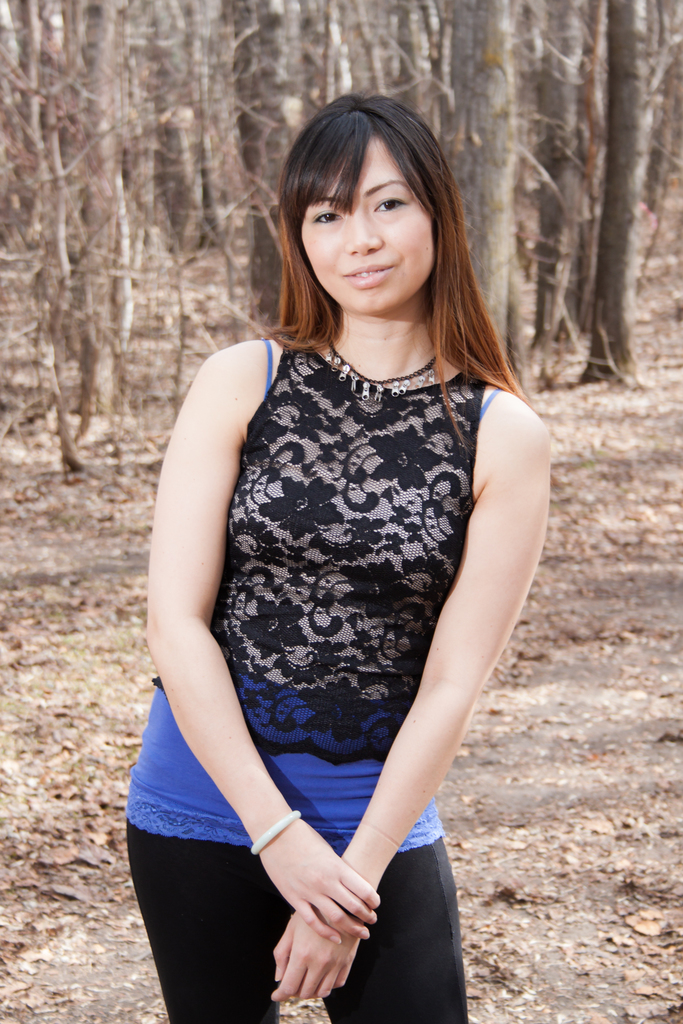Human_hand: (262, 816, 383, 951), (263, 913, 367, 1004)
